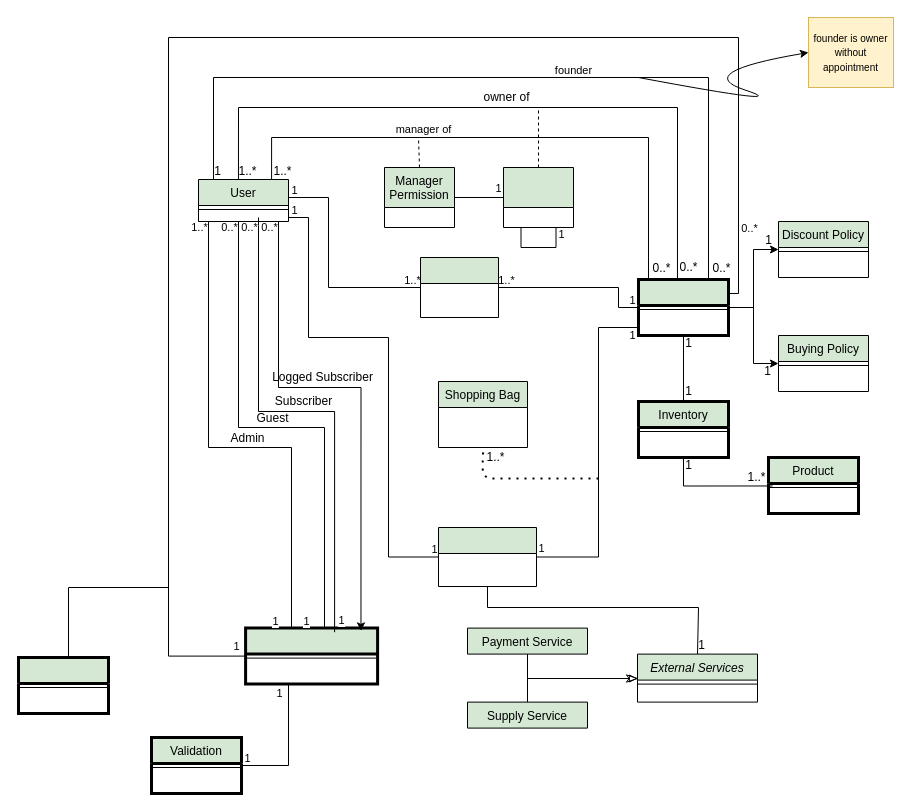
Image size: 911x812. Some labels were removed from this diagram. The shapes that lost their labels are listed below. From the top down, each one's centre as x and y in pixels, then its label:
point (538, 197): Owner Permission
point (459, 287): History
point (683, 307): Store
point (487, 556): Shopping Cart
point (311, 655): Trading System
point (63, 685): Spelling
